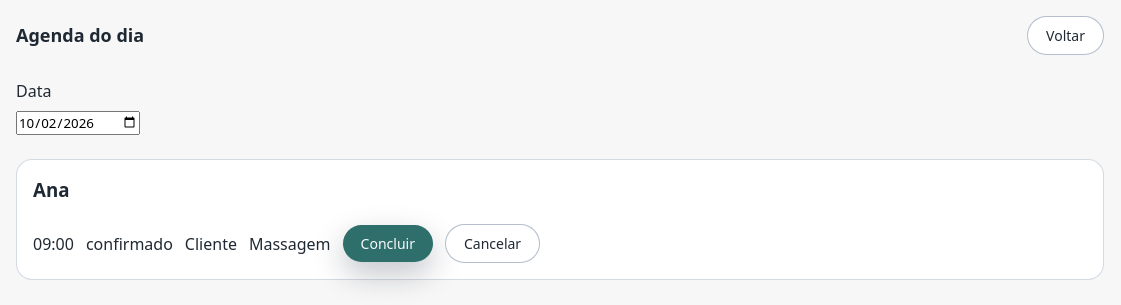
it: agenda_concluir_shows_concluido › agenda_concluir_shows_concluido
Click the button "Concluir": coordinates (388, 244) [343,225,433,262]
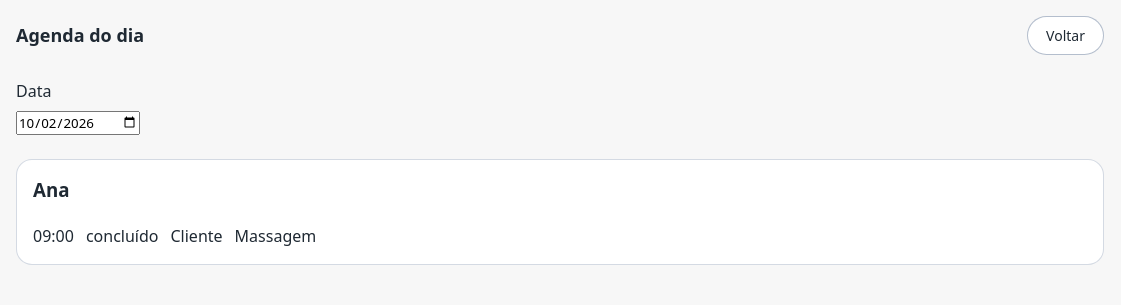
Expected: the text "concluído" is shown, [86,224,158,248]
